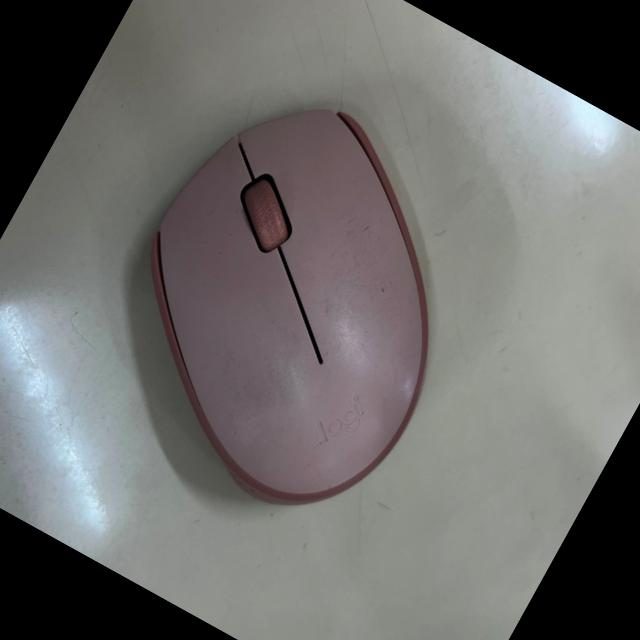inorganic: (65, 64, 522, 546)
